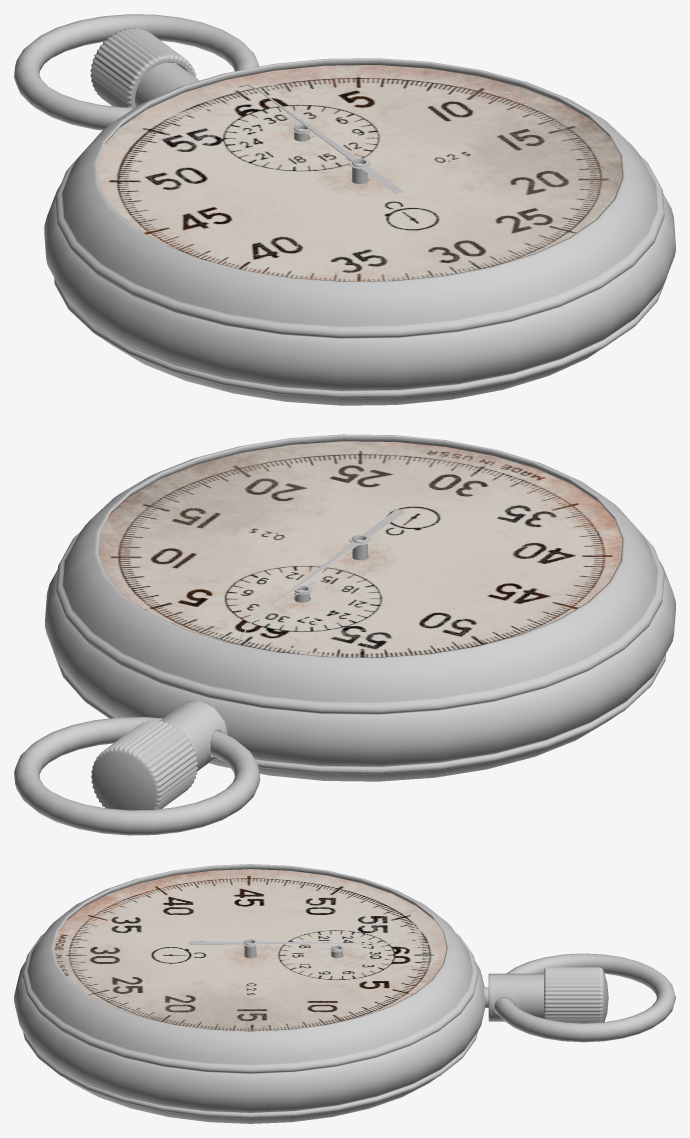
File: Stopwatch.fbx
3 views of the same model, one above another, from view 1: azimuth 30°, elevation 25°; view 2: azimuth 150°, elevation 25°; view 3: azimuth 270°, elevation 25° (orthographic). The views are drawn at different scales.
Parts seen in each view (by area): view 1: body, face, hand; view 2: body, face, hand; view 3: body, face, hand.
Boxes of the visible parts, x1,y1,x2,y2 form: body: (14,14,675,405); face: (97,65,622,281); hand: (238,85,404,194); body: (14,434,675,835); face: (98,441,622,657); hand: (239,509,405,640); body: (14,864,675,1123); face: (54,869,446,1030); hand: (189,939,431,958).
Size of the model in its own units: 4900 by 1226 by 6860.
